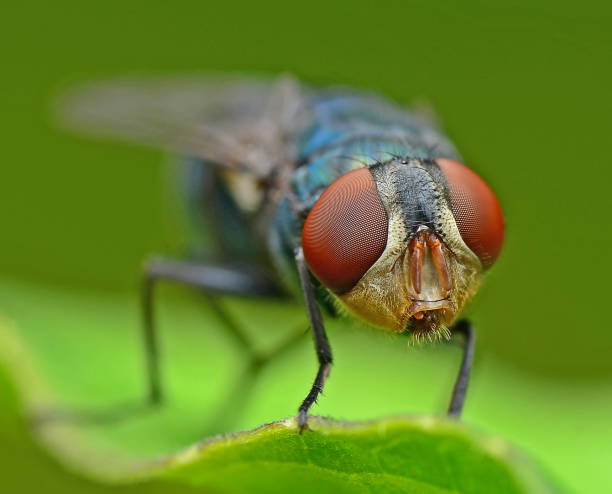Fruit fly: (126, 63, 531, 439)
